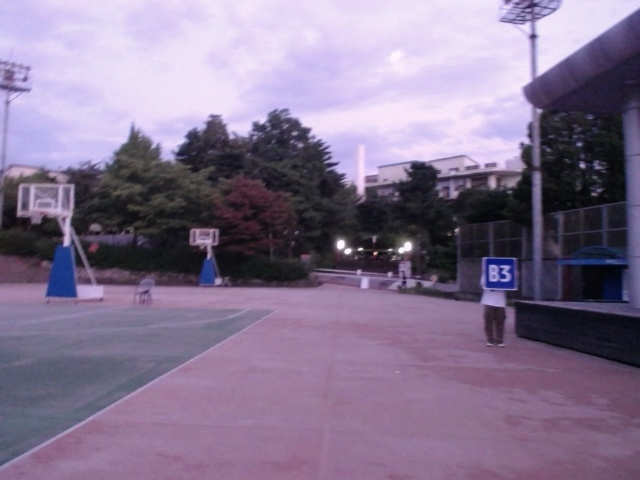delivery_b3: (482, 256, 518, 292)
